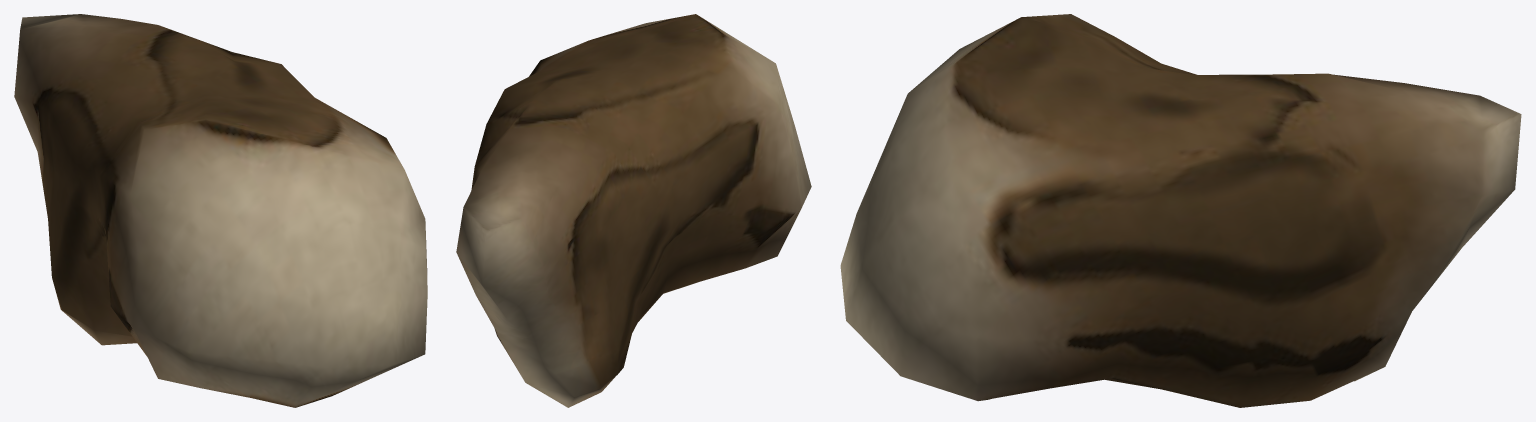
Rendered from Tarsal_III.glb.
3 views of the same model, side by side, from view 1: azimuth 30°, elevation 25°; view 2: azimuth 150°, elevation 25°; view 3: azimuth 270°, elevation 25° (orthographic). The views are drawn at different scales.
Visible parts, largest first — view 1: Tarsal_III_Right1:Group60284; view 2: Tarsal_III_Right1:Group60284; view 3: Tarsal_III_Right1:Group60284.
Boxes of the visible parts, <box> form: Tarsal_III_Right1:Group60284: <box>14,14,427,407</box>; Tarsal_III_Right1:Group60284: <box>456,14,811,407</box>; Tarsal_III_Right1:Group60284: <box>840,14,1521,407</box>.
Size of the model in its own units: 9.05 by 9.59 by 16.63.
Materials: 1 (1 with a texture image).
